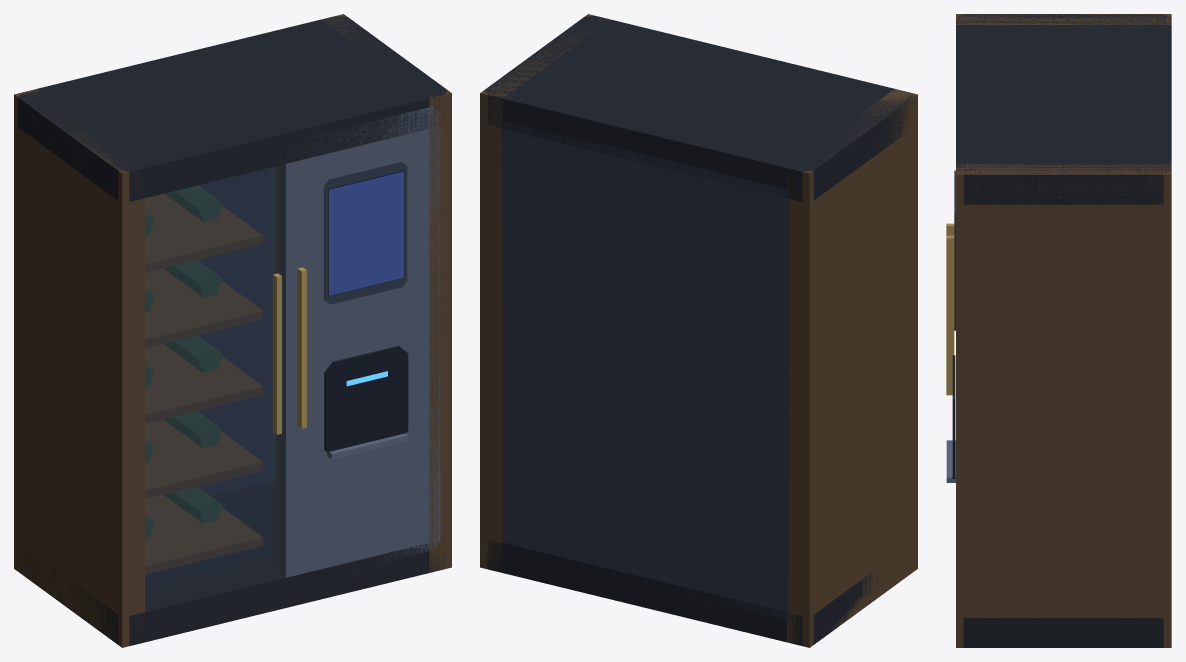
The model's file is res_smart_fridge.glb.
The picture shows the model from 3 angles, left to right: view 1: azimuth 30°, elevation 25°; view 2: azimuth 150°, elevation 25°; view 3: azimuth 270°, elevation 25°; orthographic projection.
Visible parts, largest first — view 1: walnut_stile, cabinet_cap, wine_glass, steel_door, recessed_back, print, ice_recess, wine_bottle, long_pull, drip_tray; view 2: recessed_back, walnut_stile, cabinet_cap; view 3: walnut_stile, cabinet_cap, long_pull, ice_recess, drip_tray.
Boxes of the visible parts, <box> form: walnut_stile: <box>14,14,451,647</box>; cabinet_cap: <box>18,15,447,645</box>; wine_glass: <box>145,168,270,588</box>; steel_door: <box>275,106,440,577</box>; recessed_back: <box>197,161,407,495</box>; print: <box>329,171,403,295</box>; ice_recess: <box>324,170,408,453</box>; wine_bottle: <box>145,185,222,537</box>; long_pull: <box>273,267,306,434</box>; drip_tray: <box>327,433,407,459</box>; recessed_back: <box>500,120,788,620</box>; walnut_stile: <box>480,14,917,647</box>; cabinet_cap: <box>484,15,912,645</box>; walnut_stile: <box>956,14,1171,647</box>; cabinet_cap: <box>956,14,1171,647</box>; long_pull: <box>946,223,954,395</box>; ice_recess: <box>952,355,955,478</box>; drip_tray: <box>946,440,955,482</box>.
Bounding box in the file's own units: 1.6 × 2.2 × 0.95.
